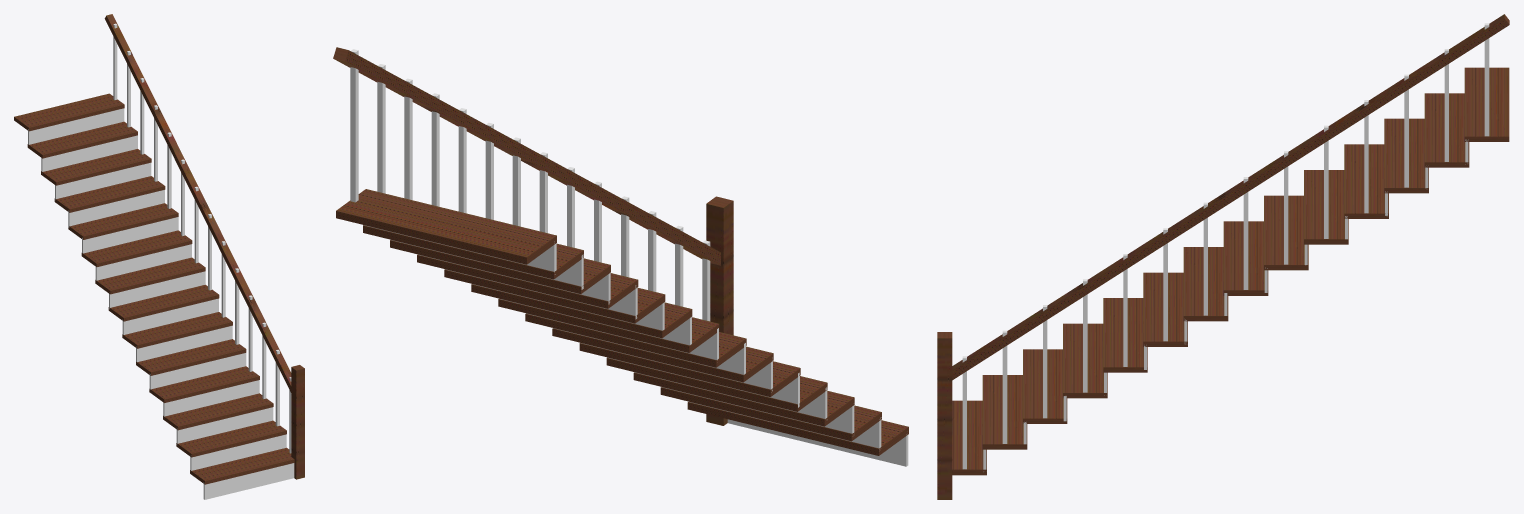
Rendered from staircase.glb.
The picture shows the model from 3 angles, left to right: view 1: azimuth 30°, elevation 25°; view 2: azimuth 150°, elevation 25°; view 3: azimuth 270°, elevation 25°; orthographic projection. The views are drawn at different scales.
Parts seen in each view (by area): view 1: staircase; view 2: staircase; view 3: staircase.
Part boxes in pixels (box(x1,y1,x2,y2)): staircase: box(14, 14, 304, 499); staircase: box(333, 47, 908, 466); staircase: box(937, 14, 1509, 499).
Size of the model in its own units: 1.13 by 3.56 by 3.85.
Materials: 2 (1 with a texture image).
